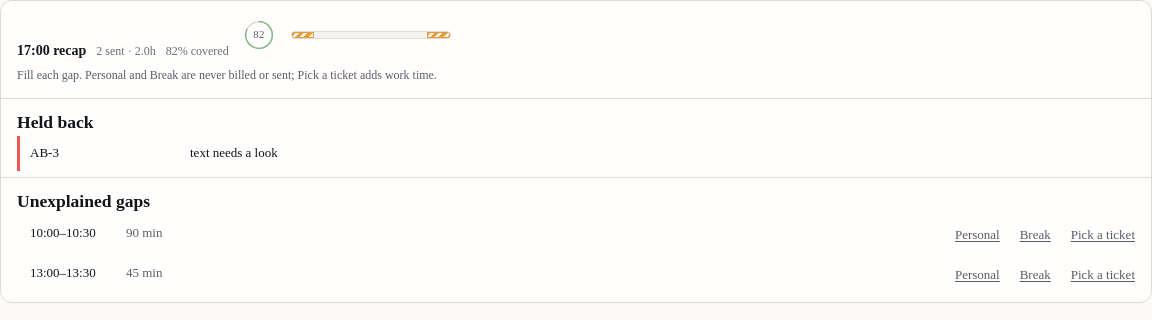
Test: RecapBanner gap actions › keeps the gap and shows the error when the daemon refuses
Click the button "Personal" in the row of "10:00–10:30" at (977, 236), box [955,224,1000,248]
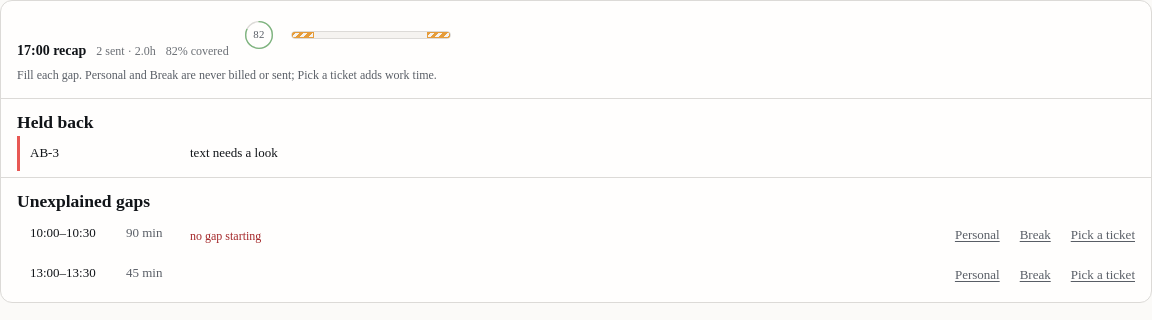
Expected: the number of buttons "Personal" is 2, [955,224,1000,248]; [955,264,1000,288]
Expected: the text "no gap starting" is shown, [190,228,261,242]
